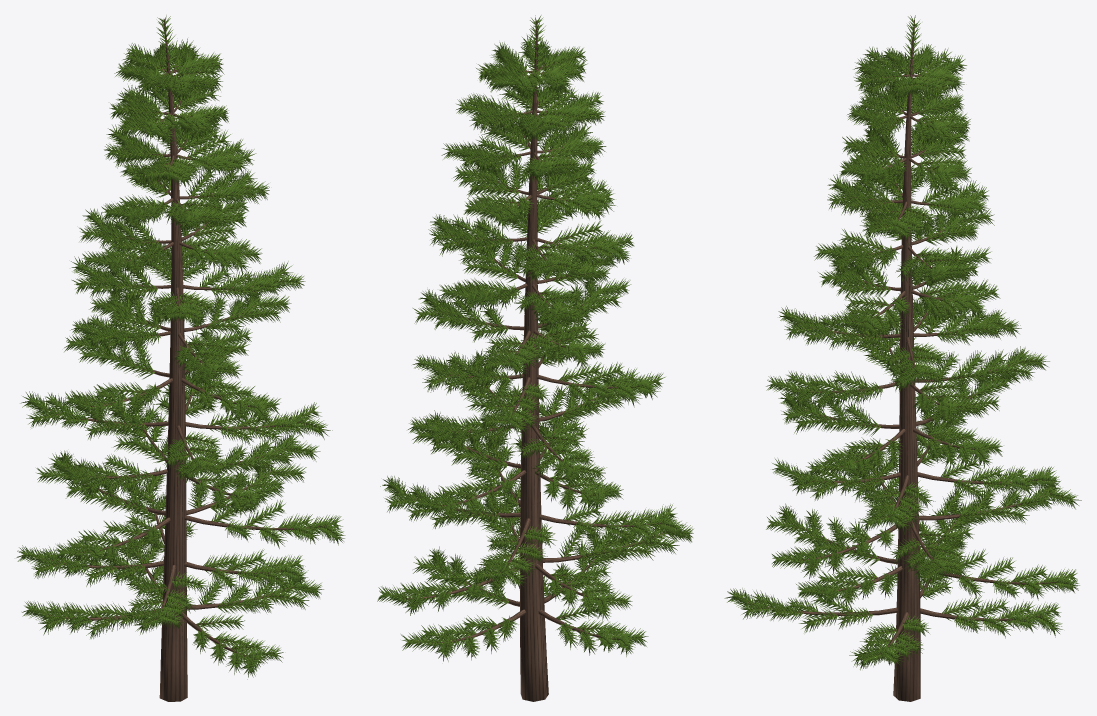
File: cedar.glb
3 views of the same model, side by side, from view 1: azimuth 30°, elevation 25°; view 2: azimuth 150°, elevation 25°; view 3: azimuth 270°, elevation 25° (orthographic).
Visible parts, largest first — view 1: Foliage, Bark; view 2: Foliage, Bark; view 3: Foliage, Bark.
Part boxes in pixels (x1=…): Foliage: x1=16, y1=15, x2=345, y2=679; Bark: x1=34, y1=19, x2=328, y2=701; Foliage: x1=377, y1=15, x2=693, y2=661; Bark: x1=403, y1=20, x2=671, y2=701; Foliage: x1=724, y1=15, x2=1081, y2=670; Bark: x1=748, y1=20, x2=1071, y2=701.
Bounding box in the file's own units: 1.05 × 2.45 × 1.18.
Materials: 2 (2 with a texture image).
